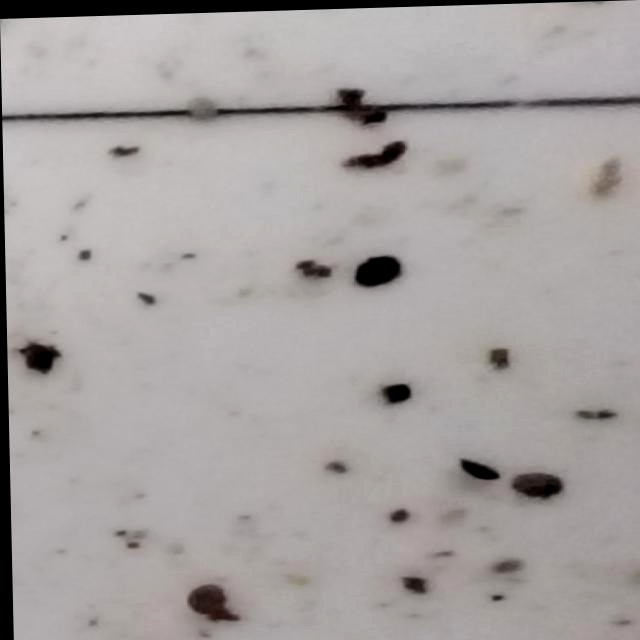varroa: (353, 253, 401, 287), (509, 469, 561, 500), (184, 578, 225, 617)
